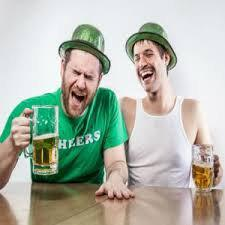Drunk: (64, 52, 100, 116), (131, 42, 165, 92)
